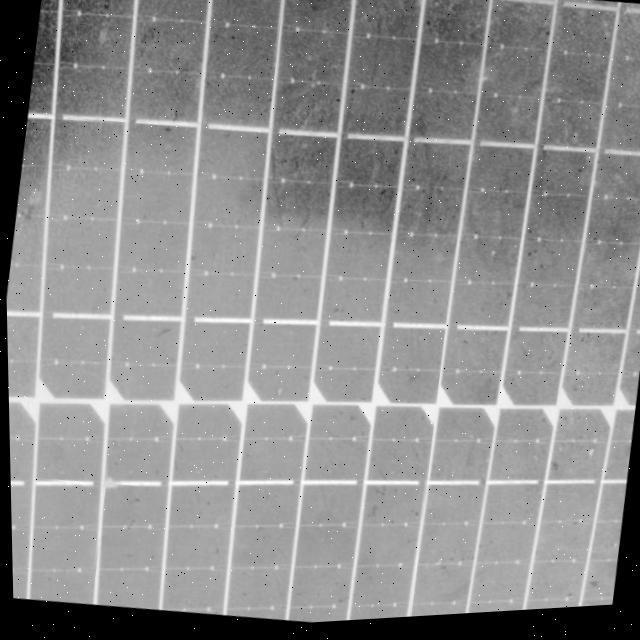Anomaly Solar Panel: (0, 0, 640, 640)
Surface Contaminant: (5, 0, 640, 615)
